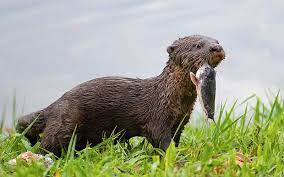otter: (15, 32, 228, 158)
